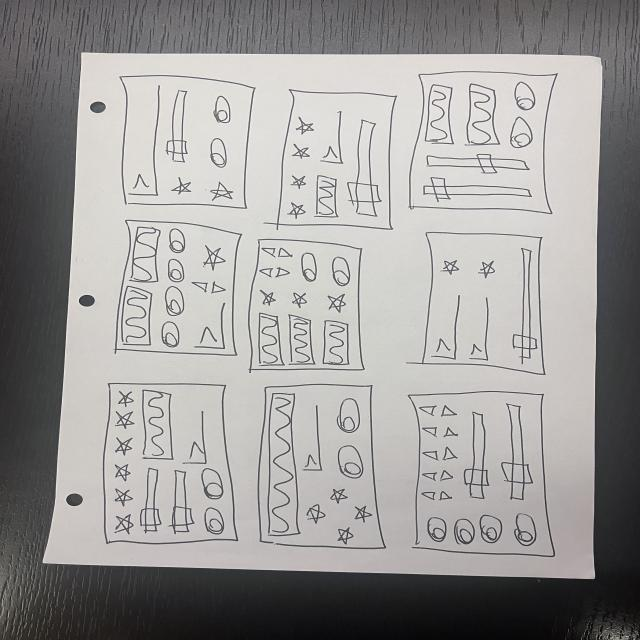Button: (198, 242, 229, 272), (202, 178, 235, 204), (440, 254, 464, 282), (112, 409, 138, 432), (476, 254, 497, 282), (169, 174, 195, 196), (110, 463, 137, 484), (113, 437, 138, 457), (112, 511, 133, 534), (258, 285, 280, 306), (114, 388, 137, 408), (112, 488, 137, 506), (350, 502, 371, 523), (288, 142, 309, 163), (334, 525, 356, 545), (326, 294, 350, 312), (295, 115, 316, 135), (288, 170, 309, 190), (287, 199, 307, 219), (327, 486, 348, 504), (289, 290, 310, 308), (305, 504, 325, 522)
Command: (129, 84, 161, 199), (296, 403, 327, 476), (432, 291, 462, 361), (180, 408, 210, 469), (468, 287, 493, 360), (191, 305, 229, 351), (317, 109, 345, 169)
IncDec: (189, 277, 229, 300), (423, 443, 459, 466), (421, 424, 462, 442), (420, 403, 458, 421), (420, 487, 458, 505), (254, 264, 292, 281), (421, 468, 459, 484), (259, 246, 295, 261)
Slider: (346, 114, 384, 219), (499, 398, 535, 501), (421, 177, 538, 205), (511, 245, 538, 364), (422, 150, 538, 175), (464, 409, 494, 500), (164, 88, 194, 165), (166, 468, 194, 534), (139, 466, 163, 534)
Text: (265, 390, 305, 540), (137, 384, 175, 461), (462, 74, 499, 150), (118, 283, 156, 351), (284, 312, 321, 367), (126, 224, 158, 283), (321, 318, 358, 368), (425, 82, 454, 145), (253, 312, 284, 368), (313, 171, 337, 220)
Toggle: (332, 392, 364, 439), (333, 443, 368, 482), (507, 116, 539, 149), (509, 77, 538, 113), (513, 510, 539, 549), (199, 466, 228, 500), (478, 512, 506, 544), (328, 253, 352, 288), (155, 321, 186, 347), (207, 136, 230, 171), (297, 253, 321, 286), (201, 506, 227, 536), (161, 285, 185, 317), (211, 94, 234, 127), (451, 517, 478, 544), (164, 228, 190, 254), (426, 516, 449, 542), (165, 256, 185, 285)
